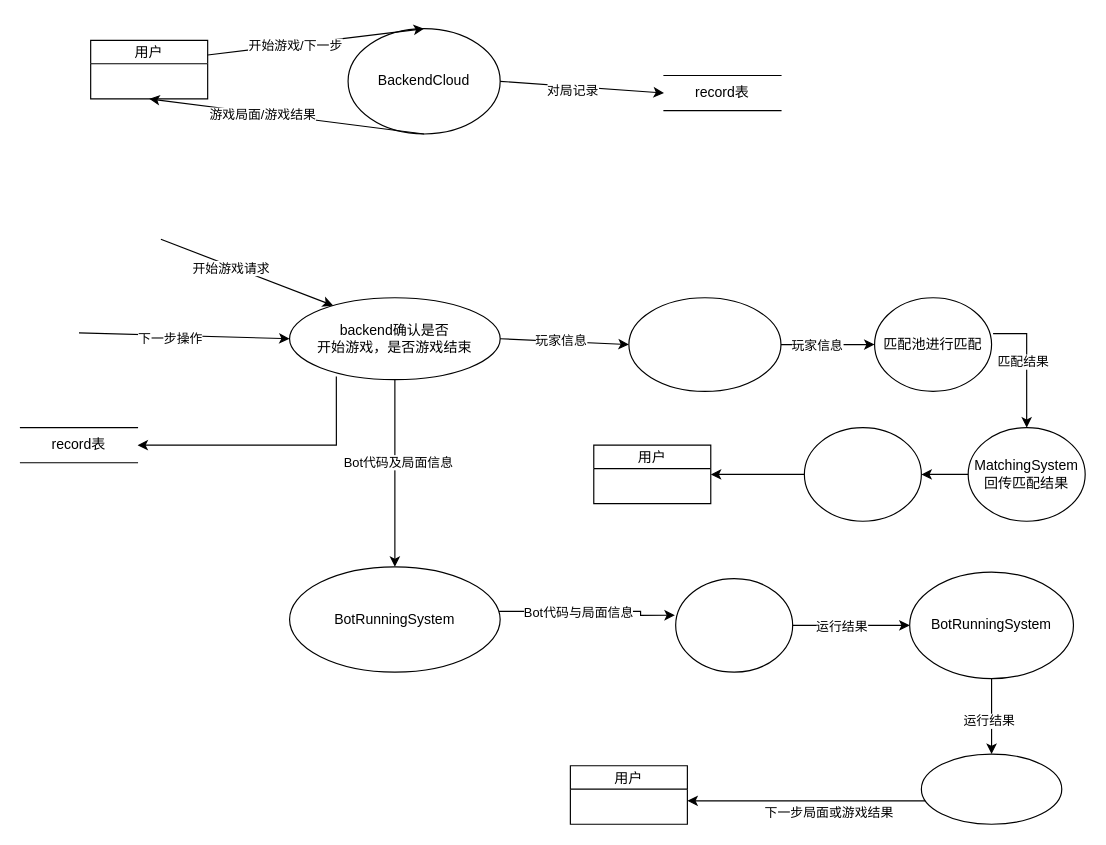
This 1106x845 diagram has some shape labels left out. The centre of each missing label's shape, as x and y in pixels:
"backend记录结果" goes at [991,788].
"backend返还用户匹配信息" goes at [862,473].
"MatchingSystem 加入匹配池" goes at [704,344].
"消息队列" goes at [734,624].
